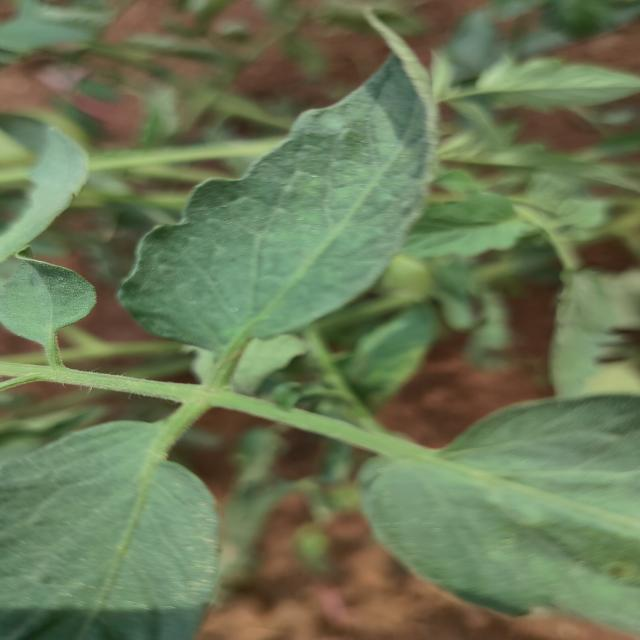tomato_healthy: (118, 54, 435, 386), (363, 396, 640, 632), (0, 421, 215, 640), (0, 258, 94, 368)
